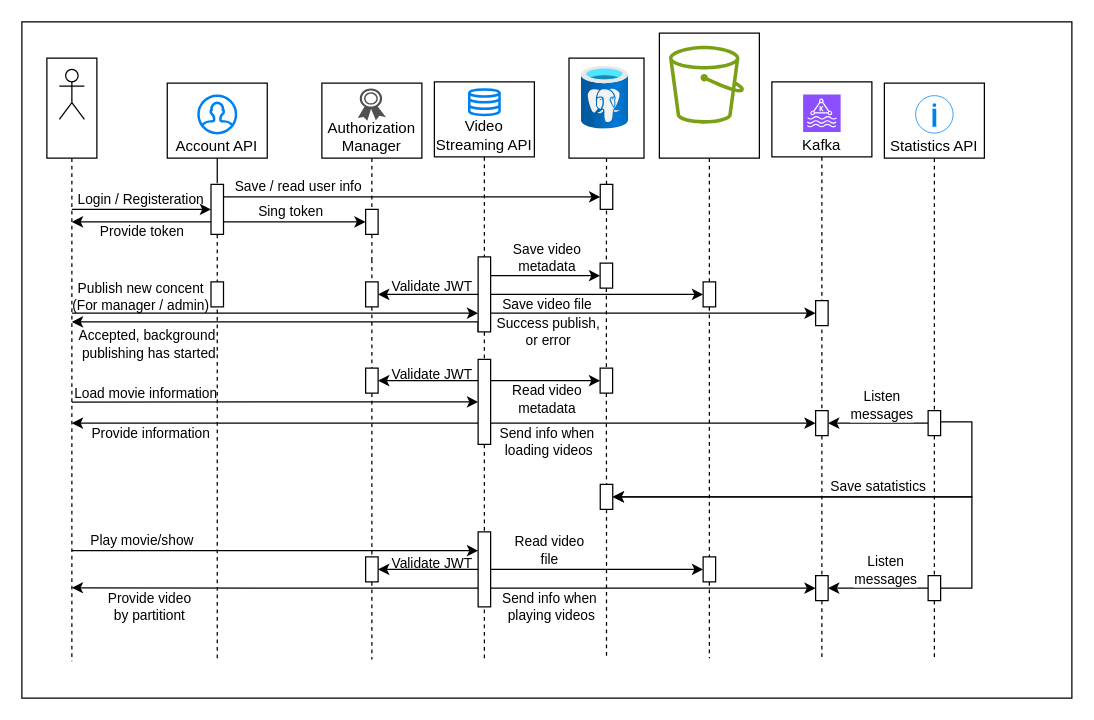
Some shapes in this 1094 by 720 pixel diagram are drawn without their labels. Each missing label, with the centre of its shape:
"Database" goes at pixel 604 97.
"MinIo Storage" goes at pixel 705 84.
"User" goes at pixel 71 93.
